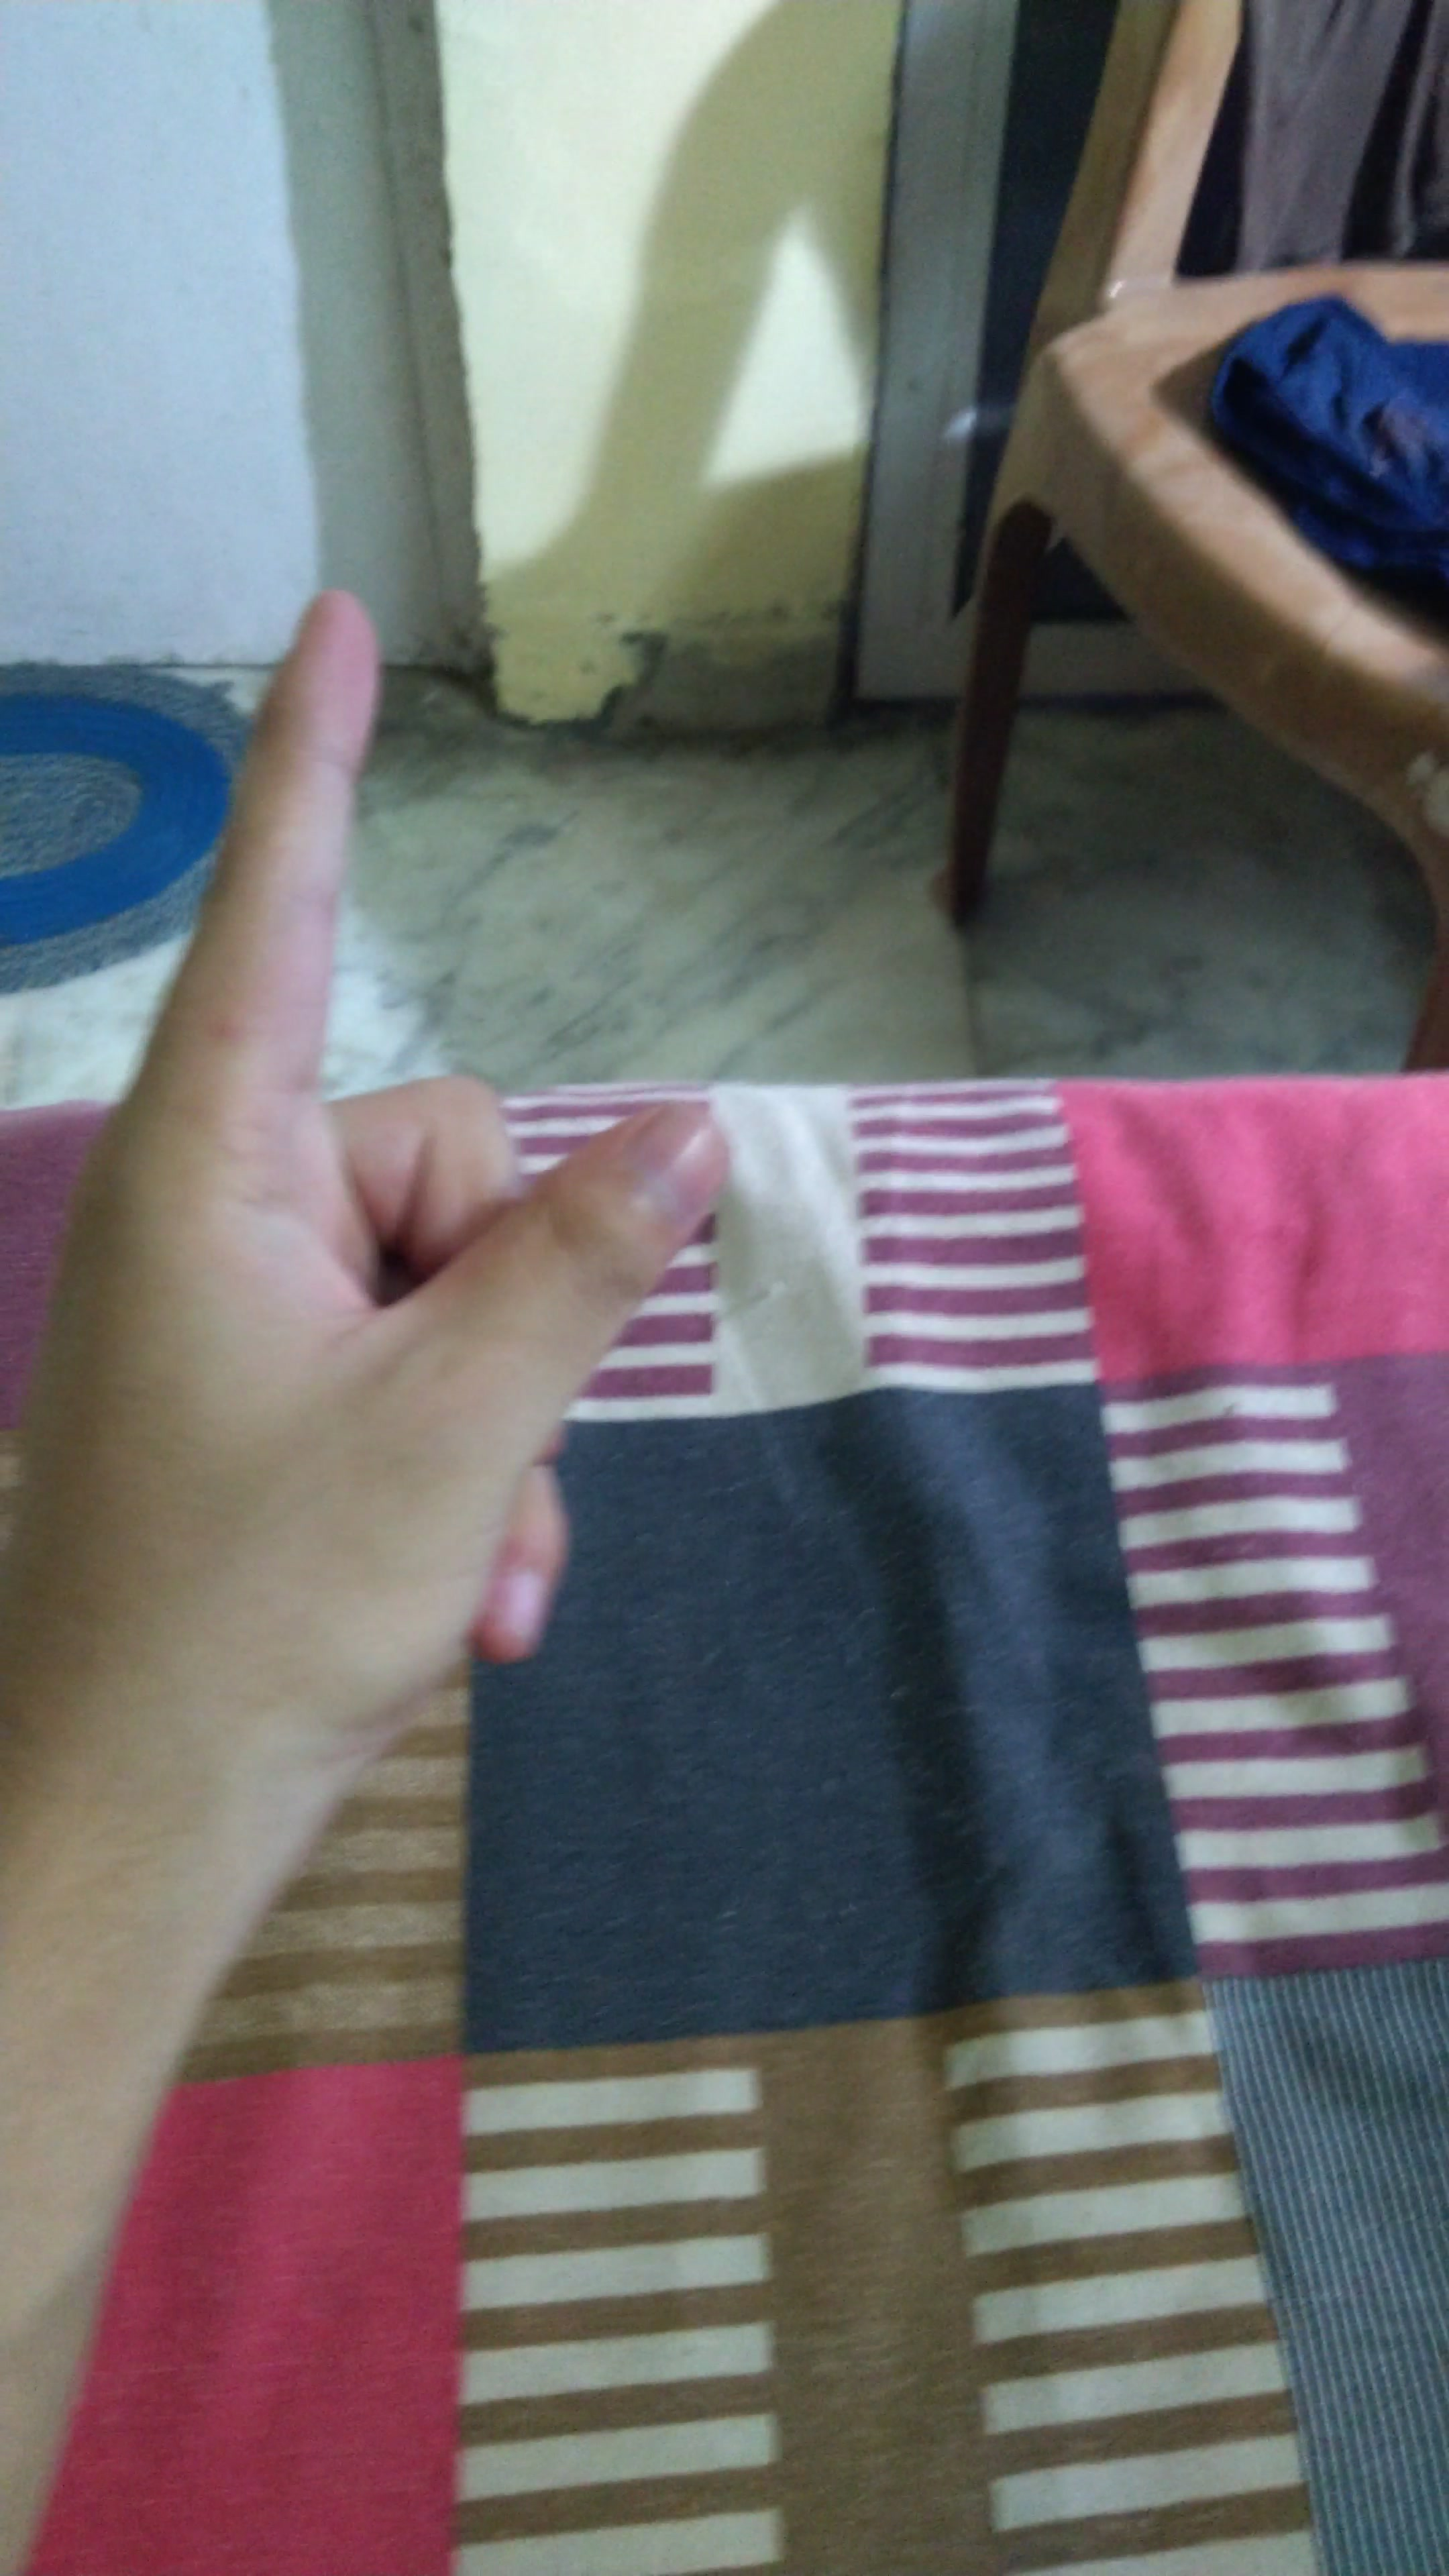hand: (18, 527, 812, 1881)
